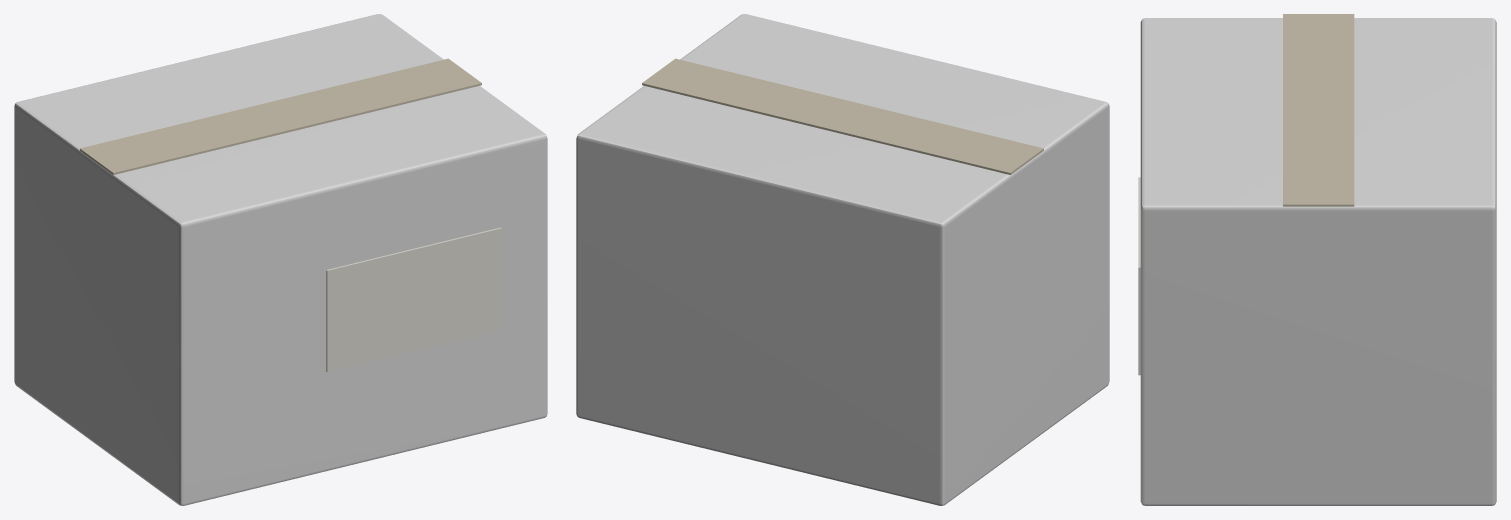
3 renders of one model, left to right at view 1: azimuth 30°, elevation 25°; view 2: azimuth 150°, elevation 25°; view 3: azimuth 270°, elevation 25°, orthographic. The views are drawn at different scales.
Parts seen in each view (by area): view 1: SM_Box_B_1; view 2: SM_Box_B_1; view 3: SM_Box_B_1.
Part boxes in pixels (<box>): SM_Box_B_1: <box>14,14,547,505</box>; SM_Box_B_1: <box>576,14,1109,505</box>; SM_Box_B_1: <box>1138,14,1496,505</box>.
Bounding box in the file's own units: 38 × 28.2 × 30.2.
